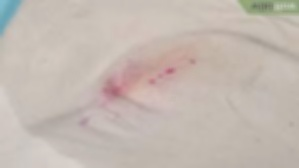lipstick: (147, 53, 193, 86), (112, 55, 153, 92), (99, 80, 125, 103), (77, 114, 92, 130)
